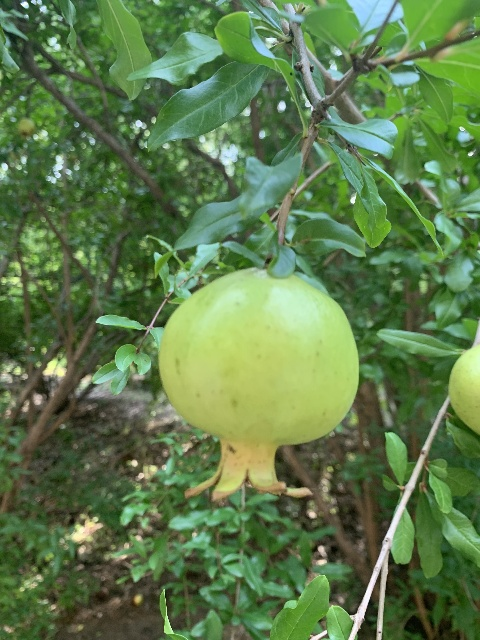mid-growth: (157, 269, 359, 504), (16, 117, 35, 140)
